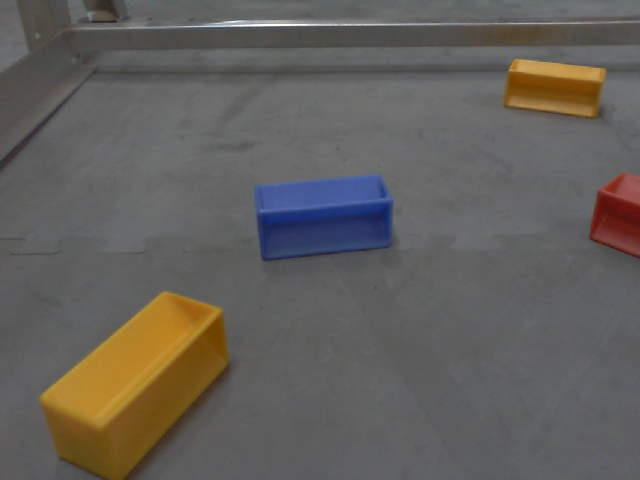BlueSample: (248, 172, 396, 263)
RedSample: (588, 163, 640, 259)
YellowSample: (37, 288, 235, 479), (499, 55, 610, 120)
